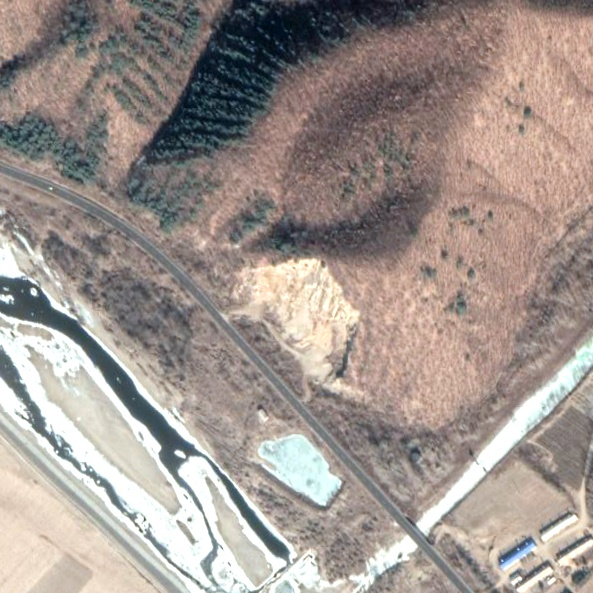slope: (230, 256, 378, 408)
